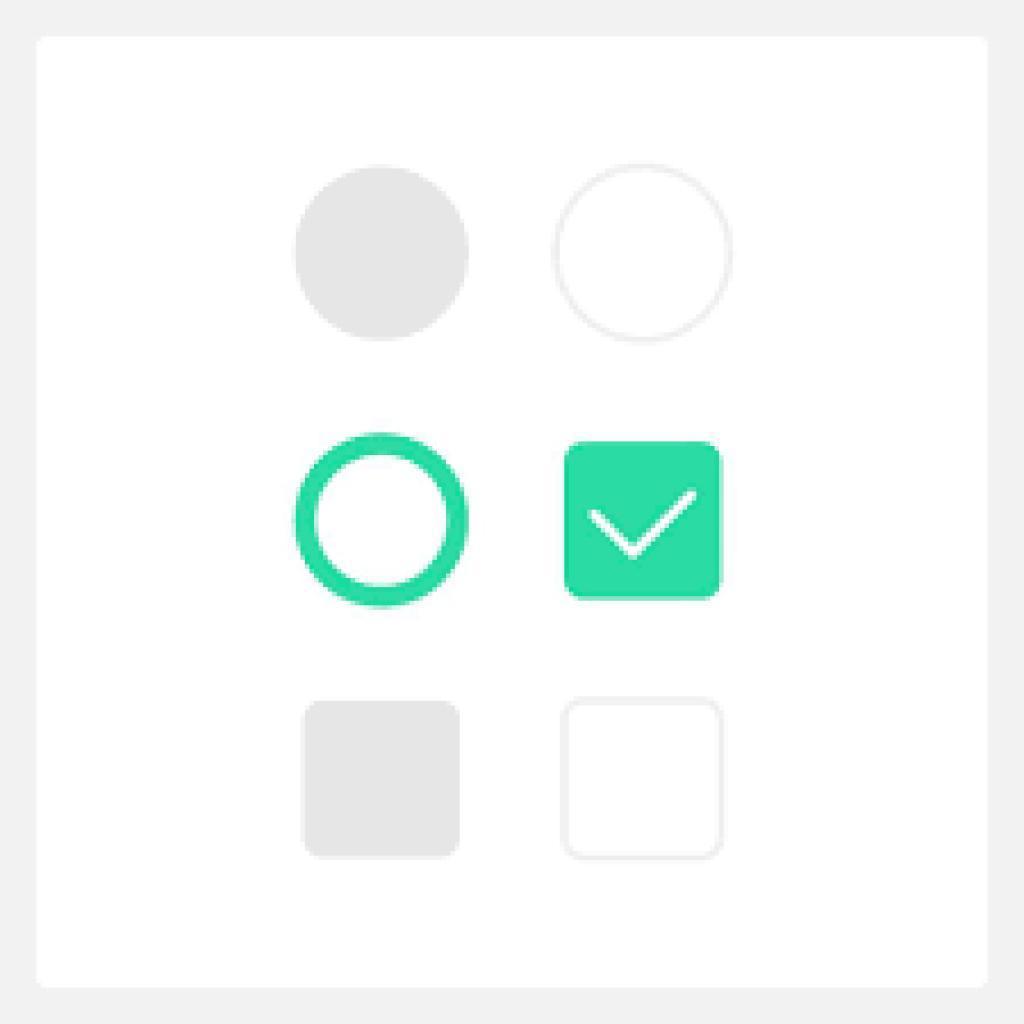checkbox: (562, 703, 727, 863), (302, 703, 463, 858), (567, 443, 722, 601)
radio: (288, 158, 478, 352), (554, 166, 738, 351), (293, 432, 470, 613)
